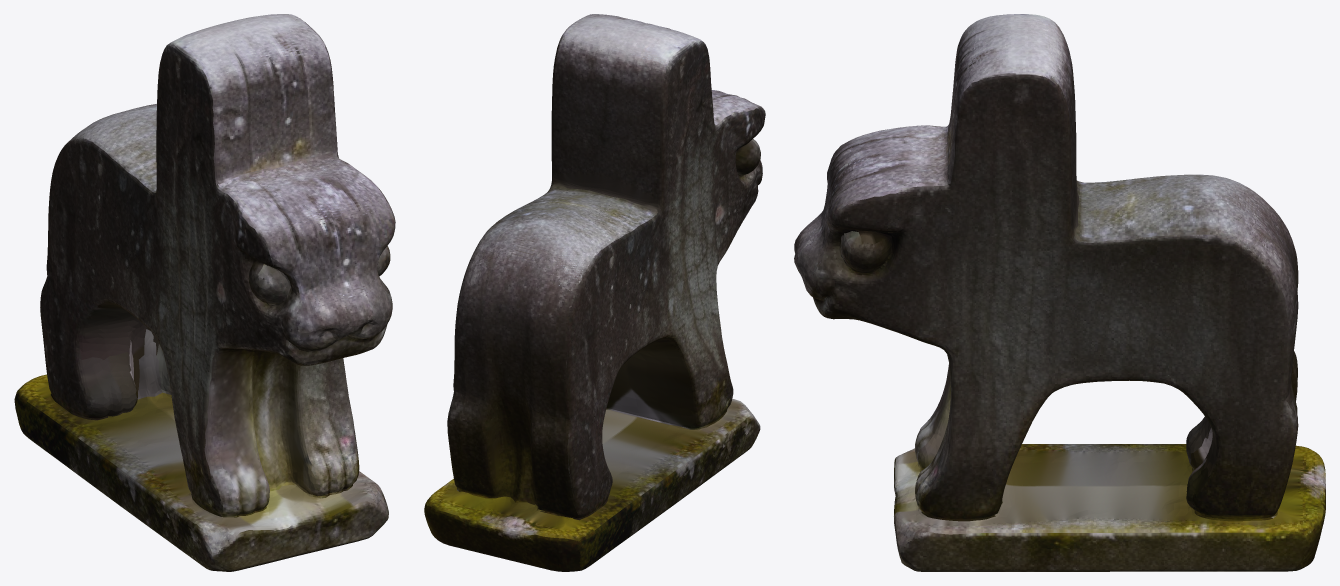
The model's file is traveler_env_coast_iuchi_valley_wayside_stone_00001_.glb.
3 views of the same model, side by side, from view 1: azimuth 30°, elevation 25°; view 2: azimuth 150°, elevation 25°; view 3: azimuth 270°, elevation 25° (orthographic). The views are drawn at different scales.
Visible parts, largest first — view 1: temp_mesh.ply; view 2: temp_mesh.ply; view 3: temp_mesh.ply.
Boxes of the visible parts, left/top/right/bottom form: temp_mesh.ply: left=14, top=14, right=395, bottom=571; temp_mesh.ply: left=424, top=14, right=765, bottom=571; temp_mesh.ply: left=794, top=14, right=1325, bottom=571.
Size of the model in its own units: 0.7655 by 1.96 by 1.91.
1 material, 1 textured.
